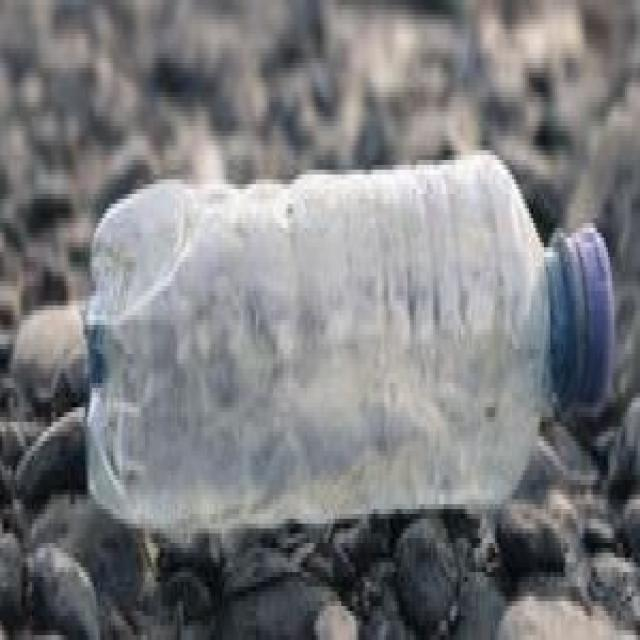general: (81, 145, 614, 543)
